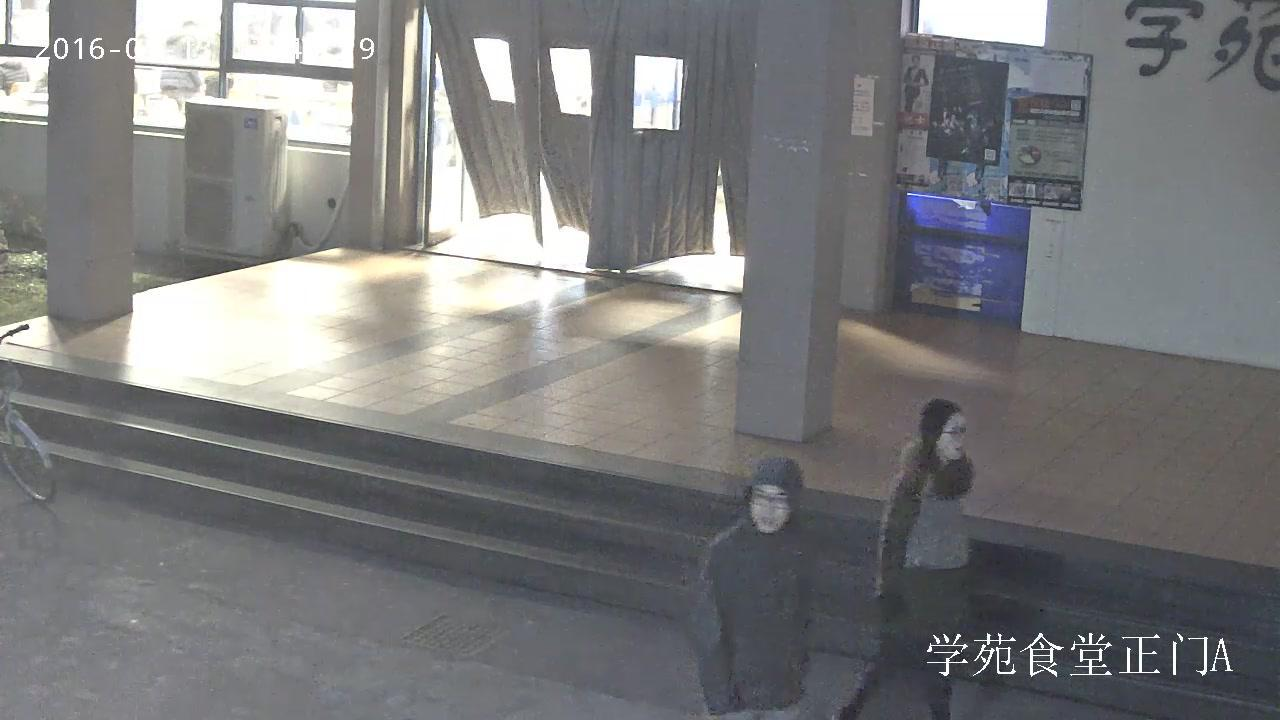person: (832, 398, 976, 720), (692, 453, 825, 720), (903, 55, 928, 111)
